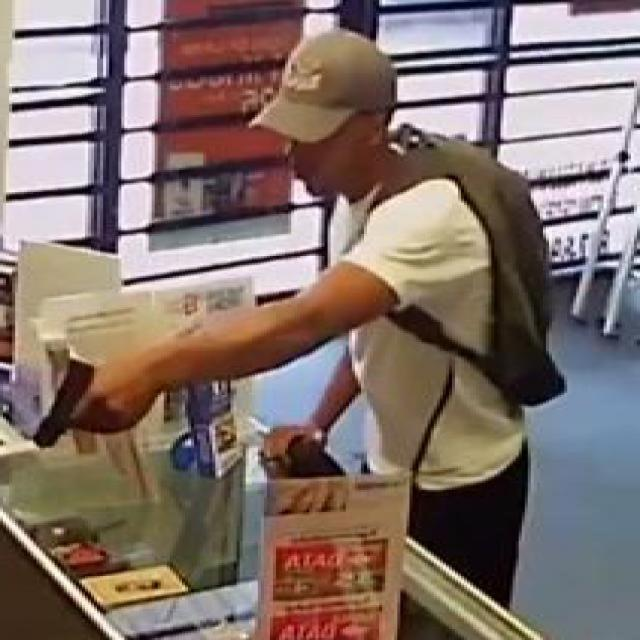weapon: (28, 361, 98, 452)
